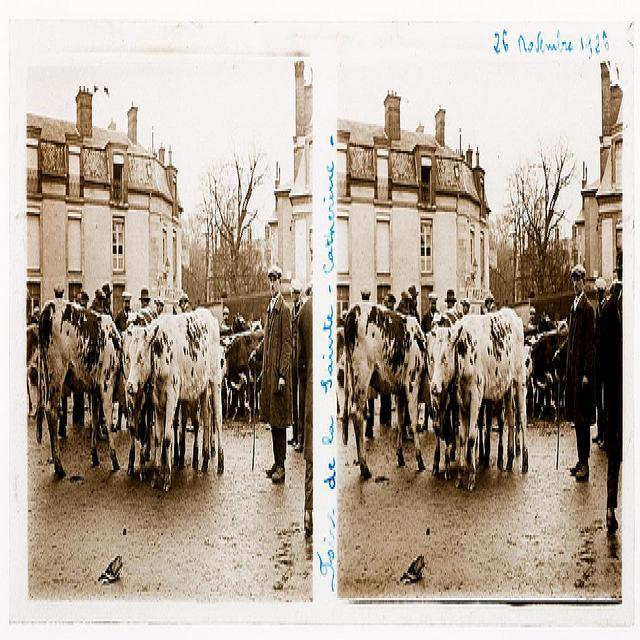cow: (429, 304, 528, 489), (126, 304, 224, 487), (35, 300, 125, 476), (342, 298, 425, 476), (215, 327, 263, 420), (121, 302, 158, 357)
